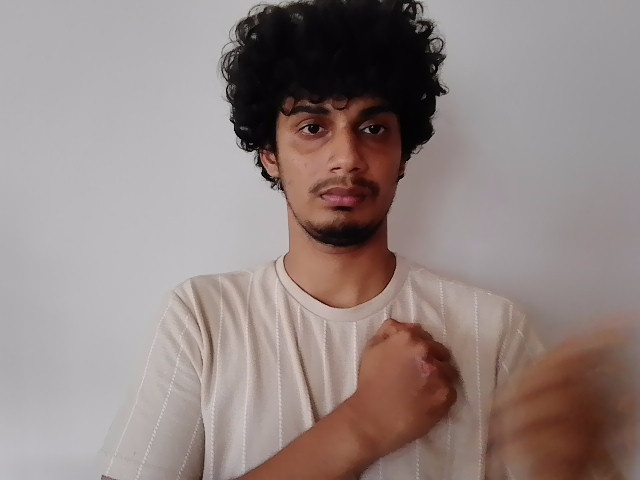sorry: (347, 250, 495, 439)
